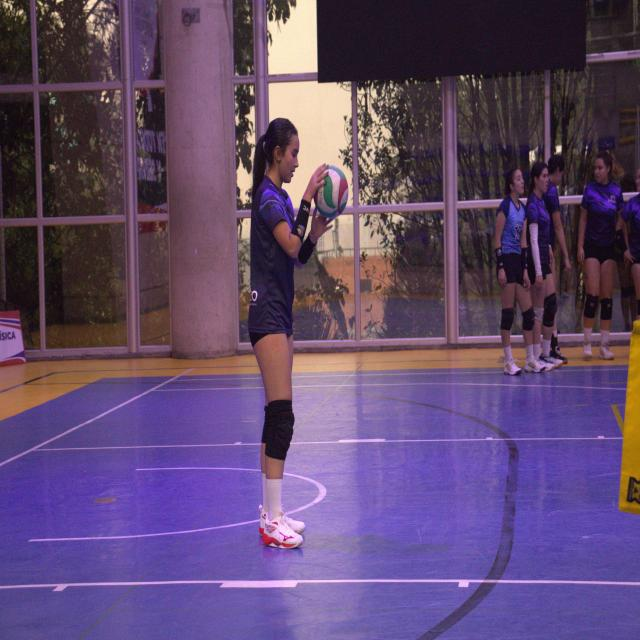volleyball: (313, 166, 348, 218)
